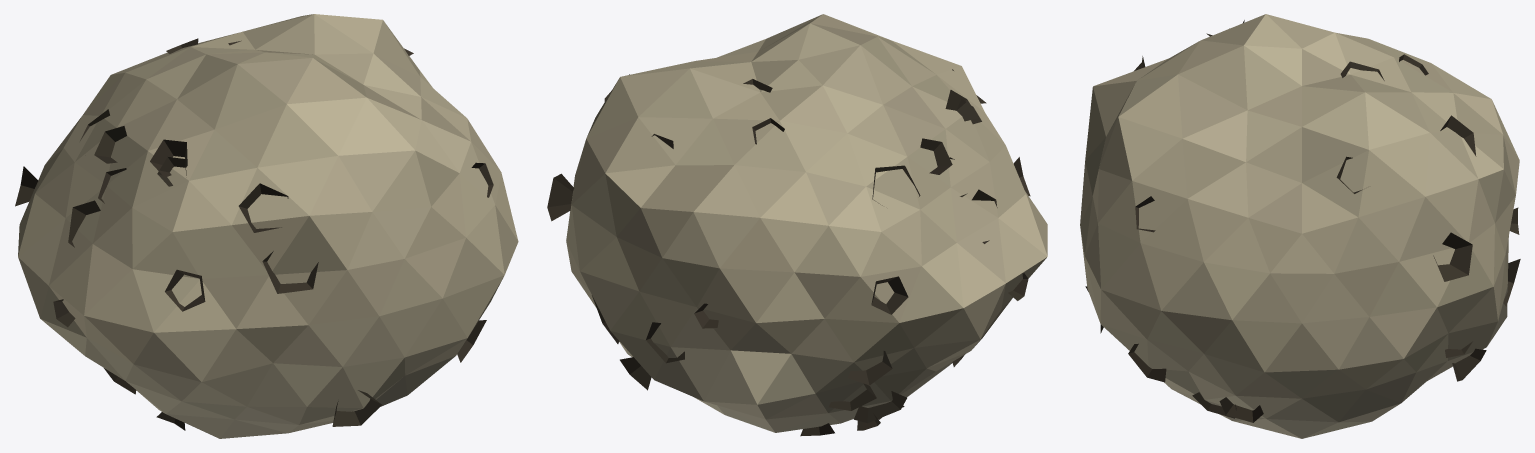
The model's file is floatstone.glb.
3 renders of one model, left to right at view 1: azimuth 30°, elevation 25°; view 2: azimuth 150°, elevation 25°; view 3: azimuth 270°, elevation 25°, orthographic. The views are drawn at different scales.
Parts seen in each view (by area): view 1: Mesh; view 2: Mesh; view 3: Mesh.
Part boxes in pixels (bbox=[...]): Mesh: bbox=[15, 14, 518, 438]; Mesh: bbox=[547, 14, 1047, 436]; Mesh: bbox=[1080, 14, 1520, 438].
Bounding box in the file's own units: 0.7746 × 0.664 × 0.7147.
